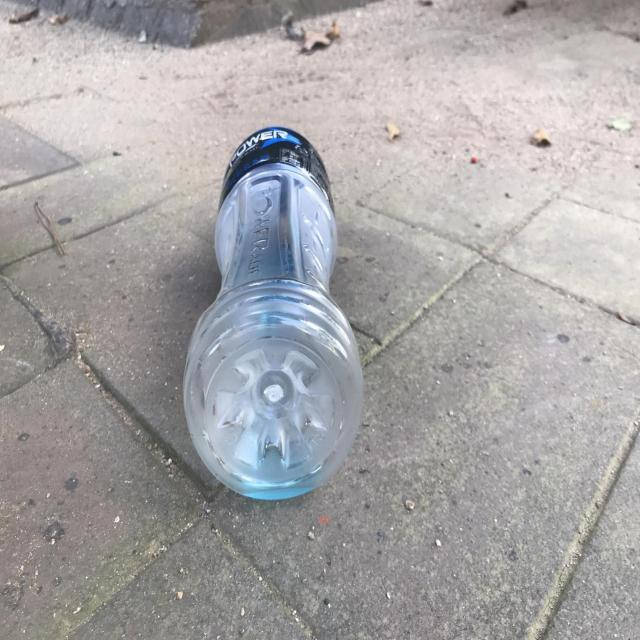plastic: (183, 126, 363, 500)
